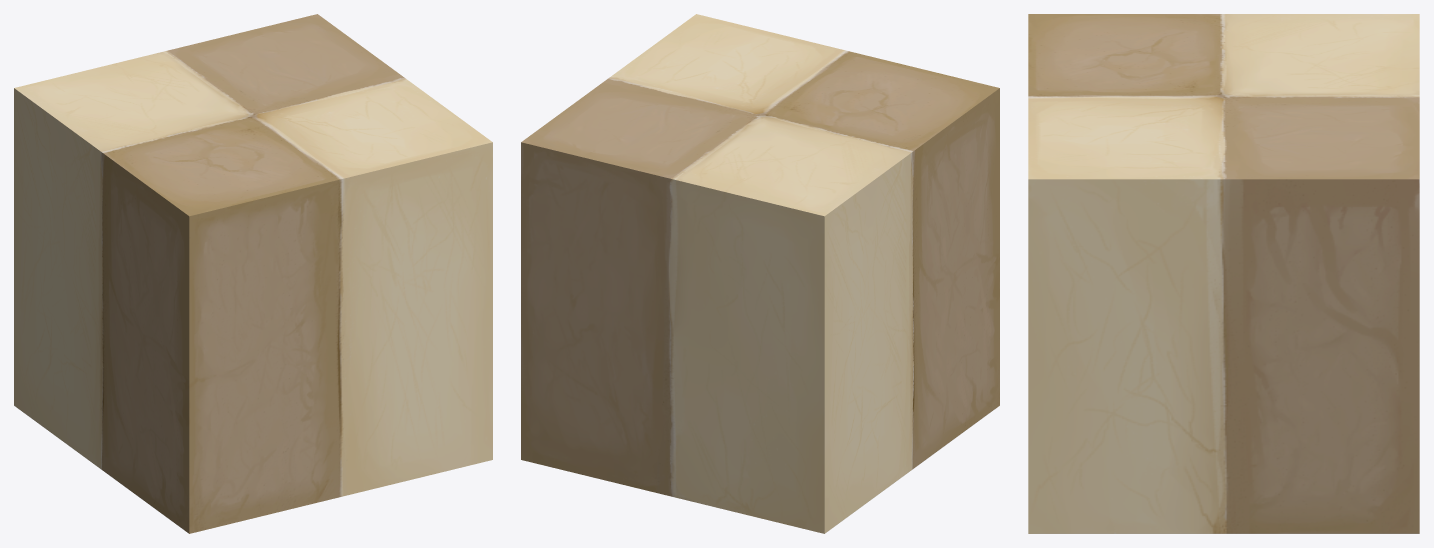
Rendered from cookie1.fbx.
3 renders of one model, left to right at view 1: azimuth 30°, elevation 25°; view 2: azimuth 150°, elevation 25°; view 3: azimuth 270°, elevation 25°, orthographic. The views are drawn at different scales.
Parts seen in each view (by area): view 1: pCube1; view 2: pCube1; view 3: pCube1.
Boxes of the visible parts, x1,y1,x2,y2 form: pCube1: (14, 14, 492, 533); pCube1: (521, 14, 999, 533); pCube1: (1028, 14, 1419, 533).
Size of the model in its own units: 1 by 1 by 1.
Materials: 1 (1 with a texture image).
